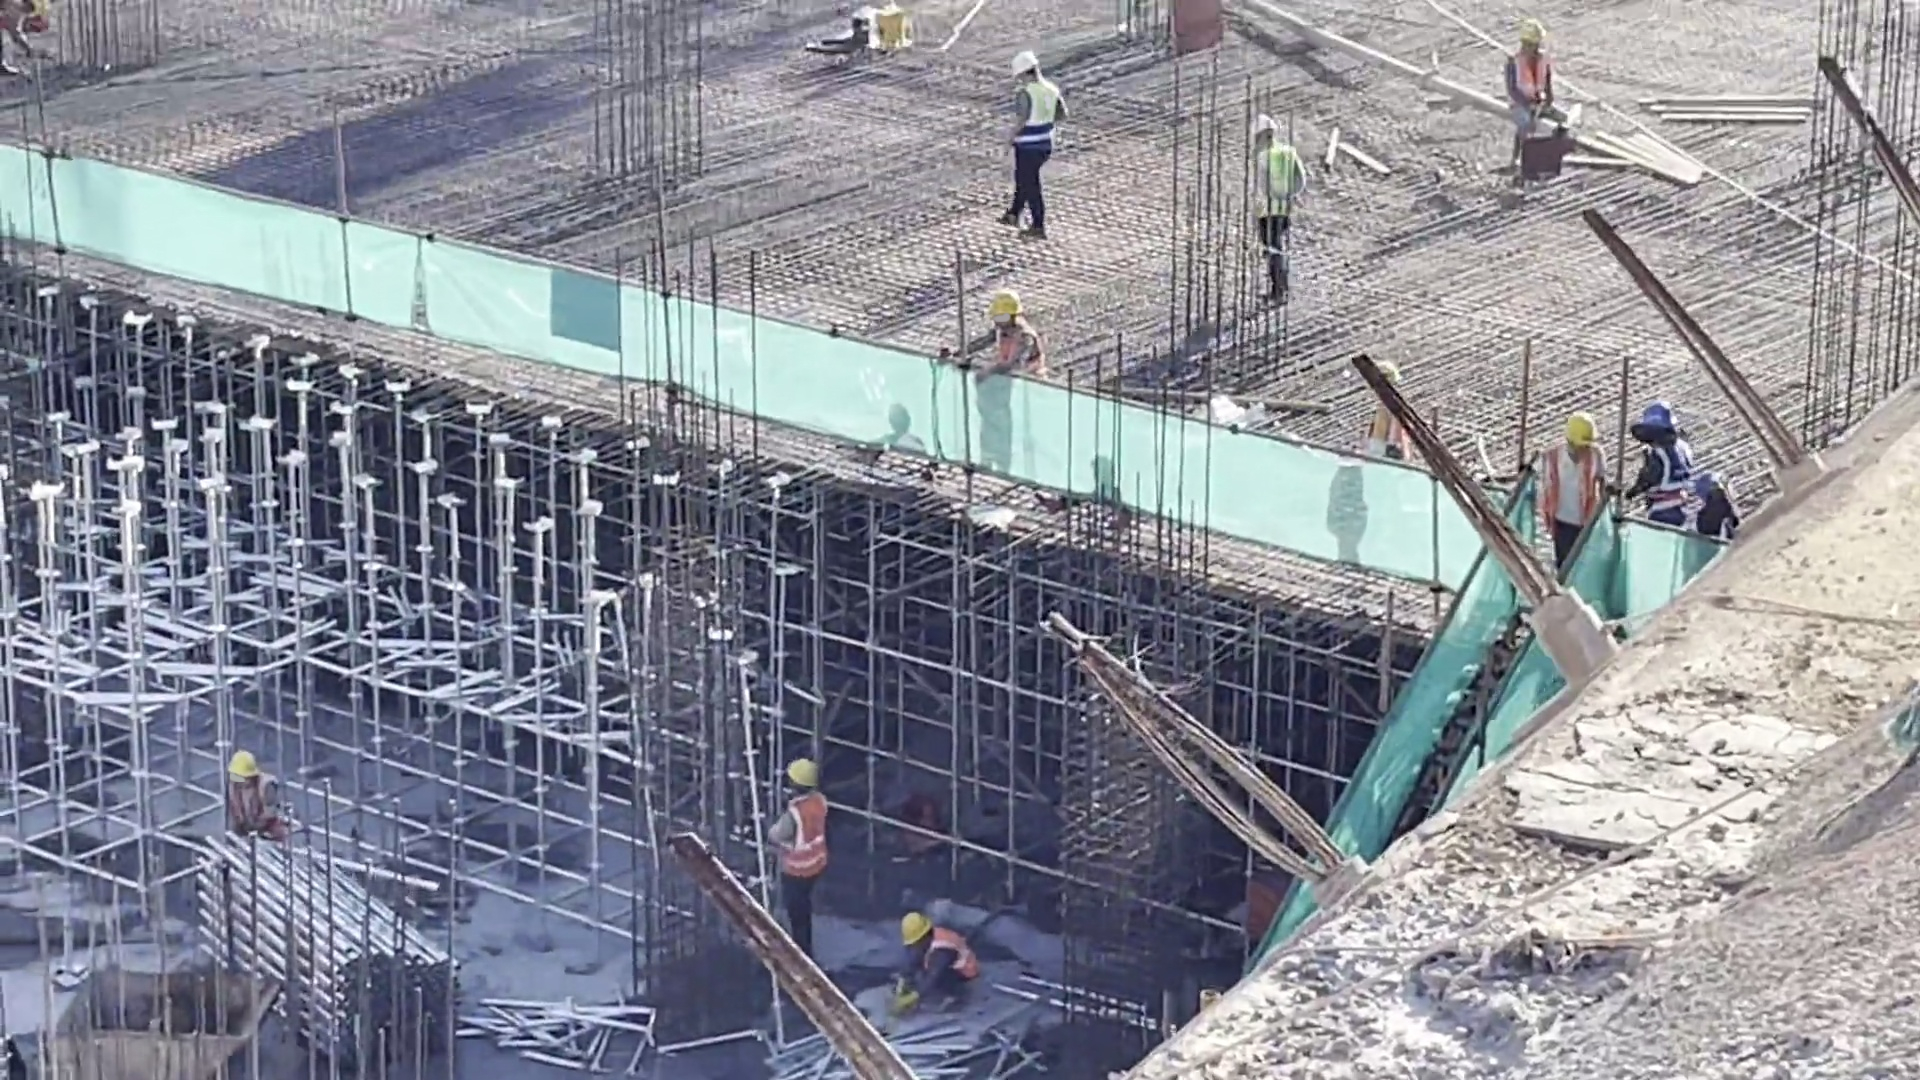helmet: (988, 287, 1028, 318), (1639, 411, 1684, 435), (234, 752, 263, 784), (788, 761, 819, 790), (1246, 113, 1280, 138), (1008, 57, 1046, 79), (903, 907, 931, 937), (1009, 61, 1046, 80), (1569, 419, 1592, 448), (1523, 22, 1548, 44)
hopper: (51, 976, 256, 1076)
person: (1236, 105, 1315, 322), (1525, 413, 1616, 591), (992, 53, 1078, 240), (769, 748, 831, 972), (1500, 17, 1571, 202), (940, 287, 1052, 395), (886, 904, 988, 1023), (218, 741, 304, 874), (1628, 405, 1701, 548)
scaffold: (203, 869, 449, 1065)
vest: (1540, 452, 1603, 527), (782, 802, 830, 875), (1651, 442, 1697, 511), (1253, 160, 1294, 235), (1012, 92, 1061, 150), (230, 787, 278, 835), (1507, 63, 1548, 119), (928, 931, 970, 977), (1001, 331, 1036, 377)
